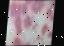plaque psoriasis: (6, 0, 28, 35), (19, 0, 46, 13), (10, 34, 36, 46), (38, 23, 54, 37), (41, 7, 55, 22), (24, 13, 37, 29), (39, 0, 55, 5), (50, 28, 52, 45)
